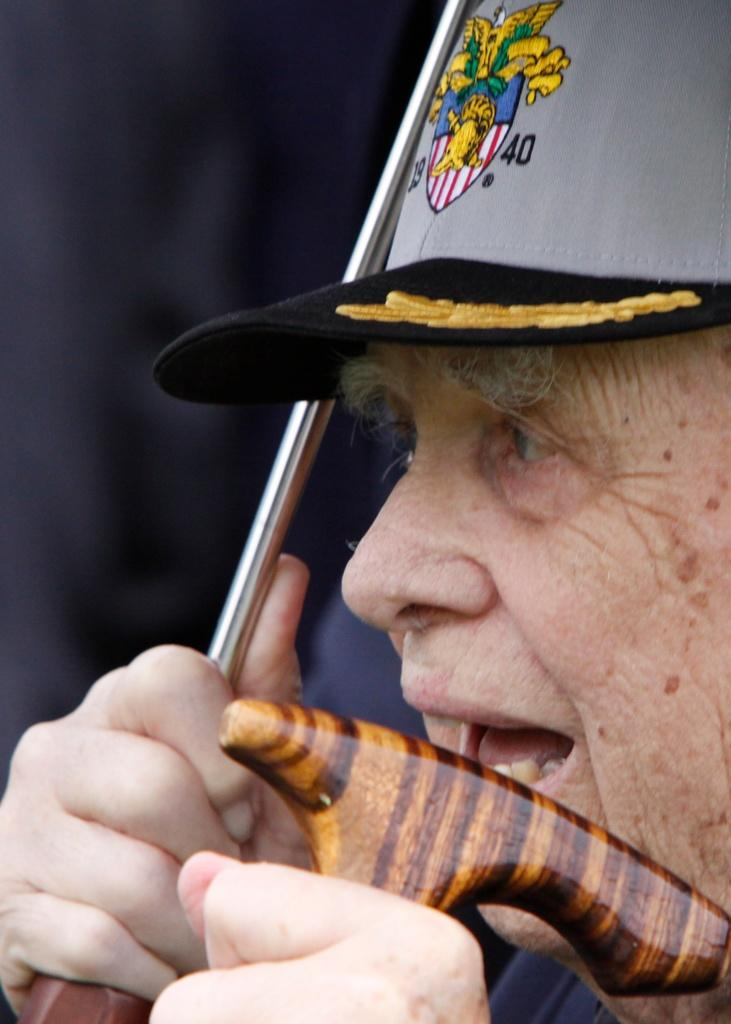Hat: (153, 0, 731, 407)
